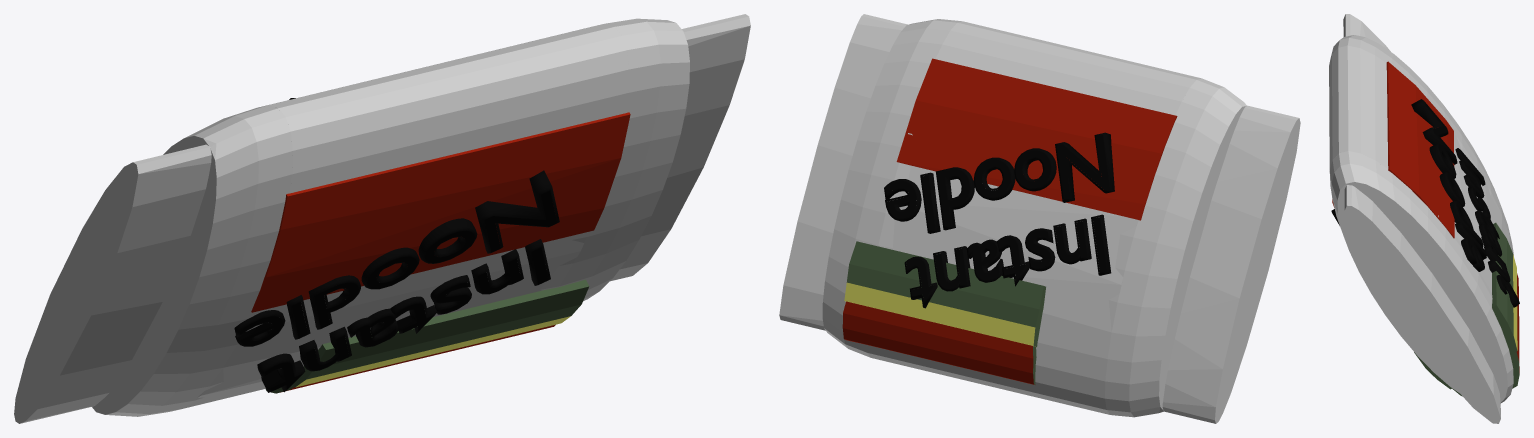
File: food_4_indomie.fbx
3 views of the same model, side by side, from view 1: azimuth 30°, elevation 25°; view 2: azimuth 150°, elevation 25°; view 3: azimuth 270°, elevation 25° (orthographic). The views are drawn at different scales.
Parts seen in each view (by area): view 1: food_indomie.001; view 2: food_indomie.001; view 3: food_indomie.001.
Boxes of the visible parts, box(x1,y1,x2,y2) form: food_indomie.001: box(14, 14, 750, 423); food_indomie.001: box(779, 14, 1300, 423); food_indomie.001: box(1329, 14, 1519, 423).
Bounding box in the file's own units: 101 × 60.74 × 42.76.
